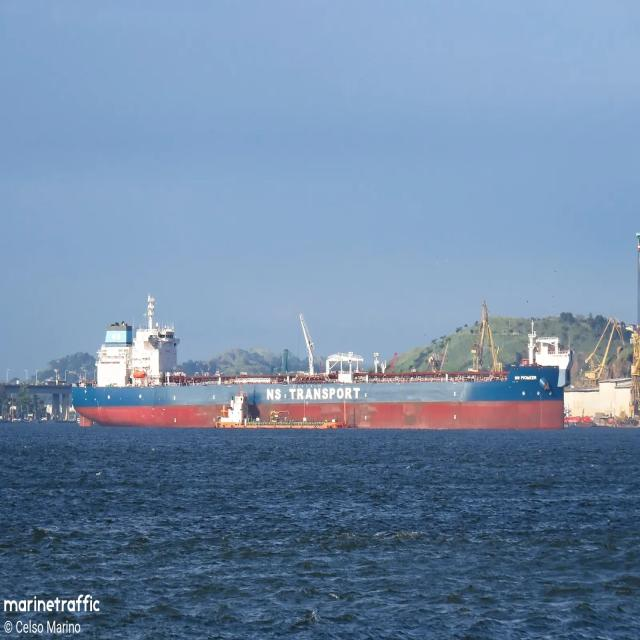Tanker: (72, 295, 571, 428)
